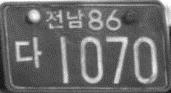0: (132, 36, 158, 85), (79, 36, 104, 83)
1: (58, 34, 71, 86)
6: (105, 8, 121, 32)
7: (104, 34, 130, 86)
8: (87, 8, 104, 32)
다: (14, 35, 43, 70)
전남_O: (45, 9, 84, 30)
